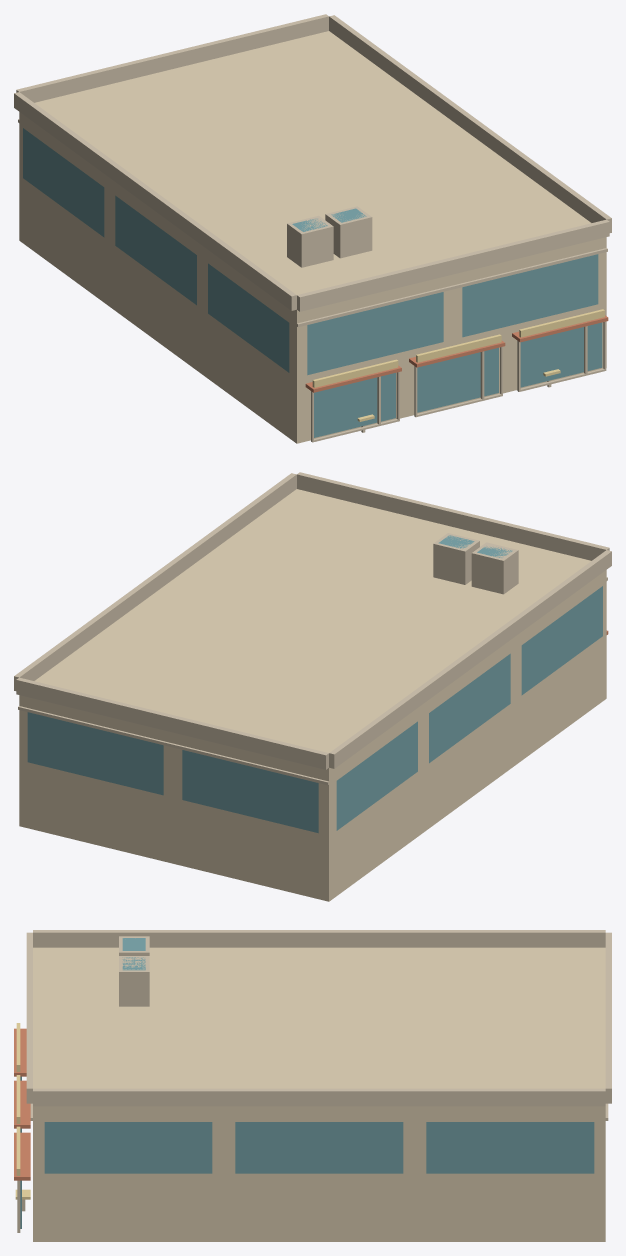
The model's file is commercial_2x3_a.glb.
The picture shows the model from 3 angles, top to bottom: view 1: azimuth 30°, elevation 25°; view 2: azimuth 150°, elevation 25°; view 3: azimuth 270°, elevation 25°; orthographic projection. The views are drawn at different scales.
Visible parts, largest first — view 1: commercial_2x3_a_0; view 2: commercial_2x3_a_0; view 3: commercial_2x3_a_0.
Part boxes in pixels (x1,y1,x2,y2): commercial_2x3_a_0: (14,14,611,443); commercial_2x3_a_0: (14,472,611,901); commercial_2x3_a_0: (14,930,611,1241).
Size of the model in its own units: 15 by 7.5 by 23.5.
